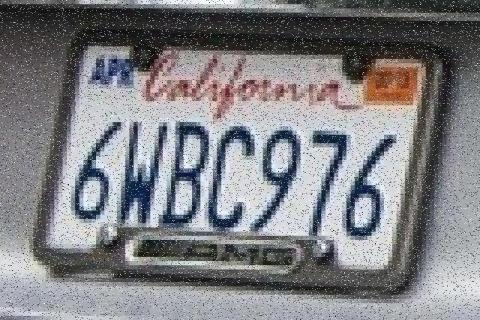LicensePlate: (25, 13, 444, 304)
